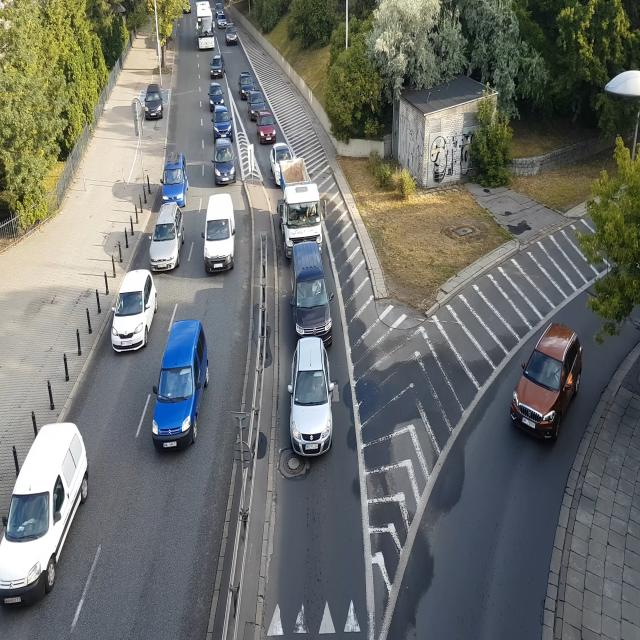bus: (195, 0, 217, 48)
car: (0, 417, 91, 625), (508, 307, 580, 448), (152, 316, 210, 453), (288, 340, 336, 464), (290, 244, 334, 338), (106, 272, 156, 354), (201, 196, 237, 274), (148, 204, 184, 274), (160, 150, 187, 203), (214, 140, 238, 184), (271, 136, 295, 174), (143, 85, 165, 120), (212, 104, 232, 141), (257, 108, 276, 144), (208, 81, 228, 108), (248, 88, 266, 118), (238, 69, 255, 95), (212, 52, 228, 74), (225, 23, 238, 46), (217, 14, 228, 28), (215, 1, 224, 13)
truck: (277, 162, 325, 255)
